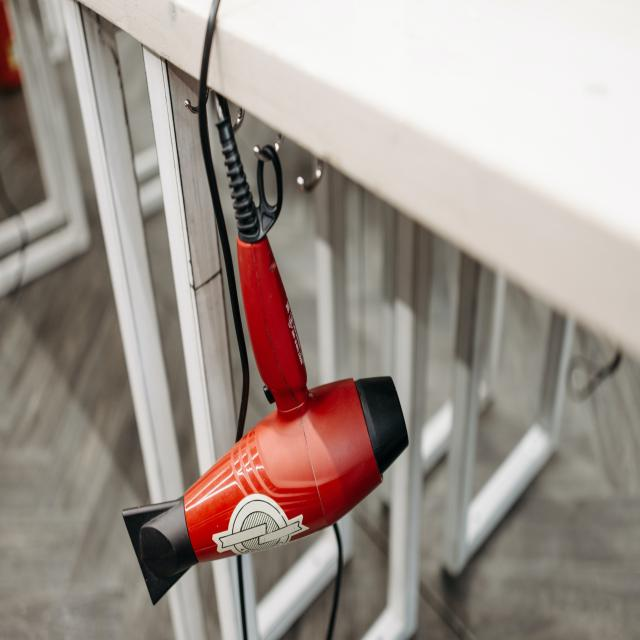dryer: (121, 119, 411, 606)
